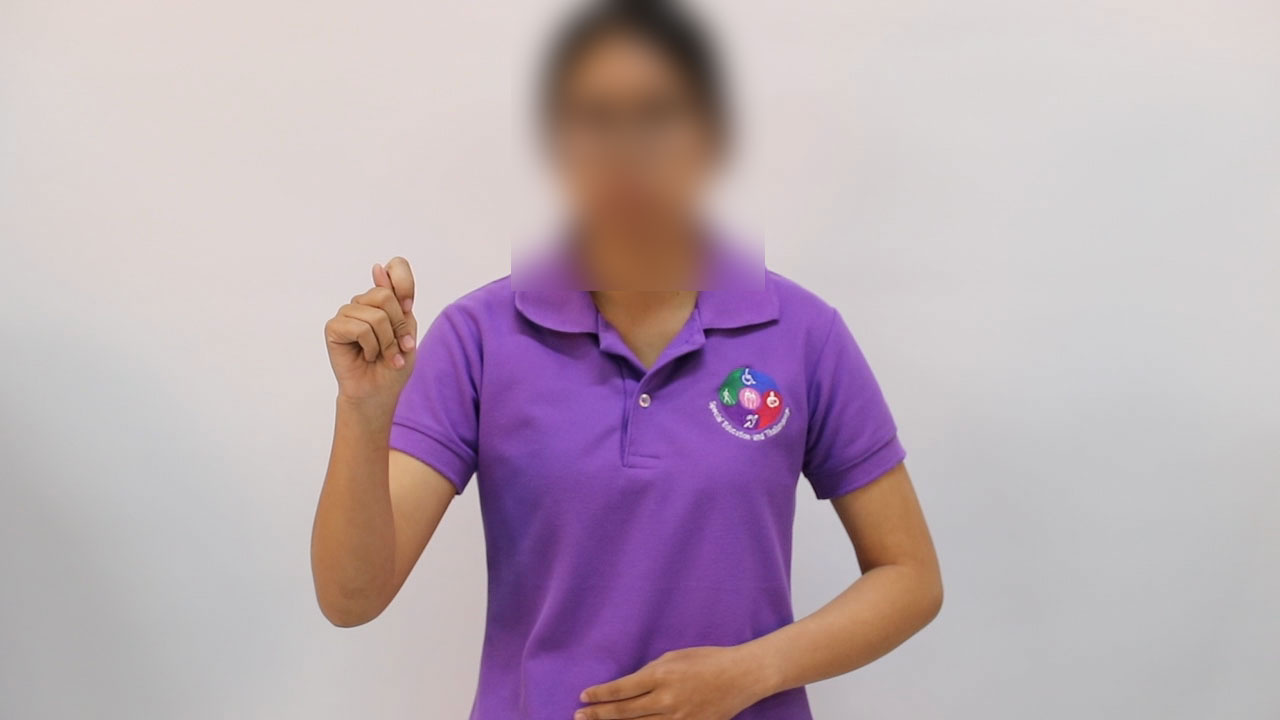tor: (295, 244, 455, 432)
